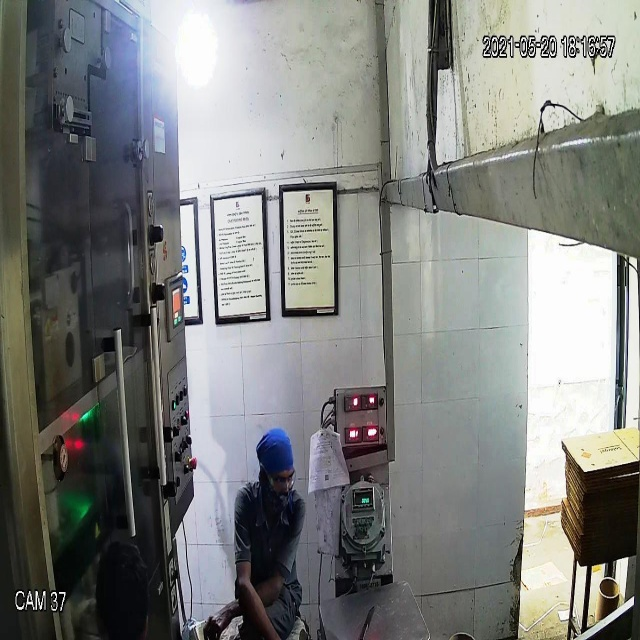Gafas: (257, 460, 298, 498)
